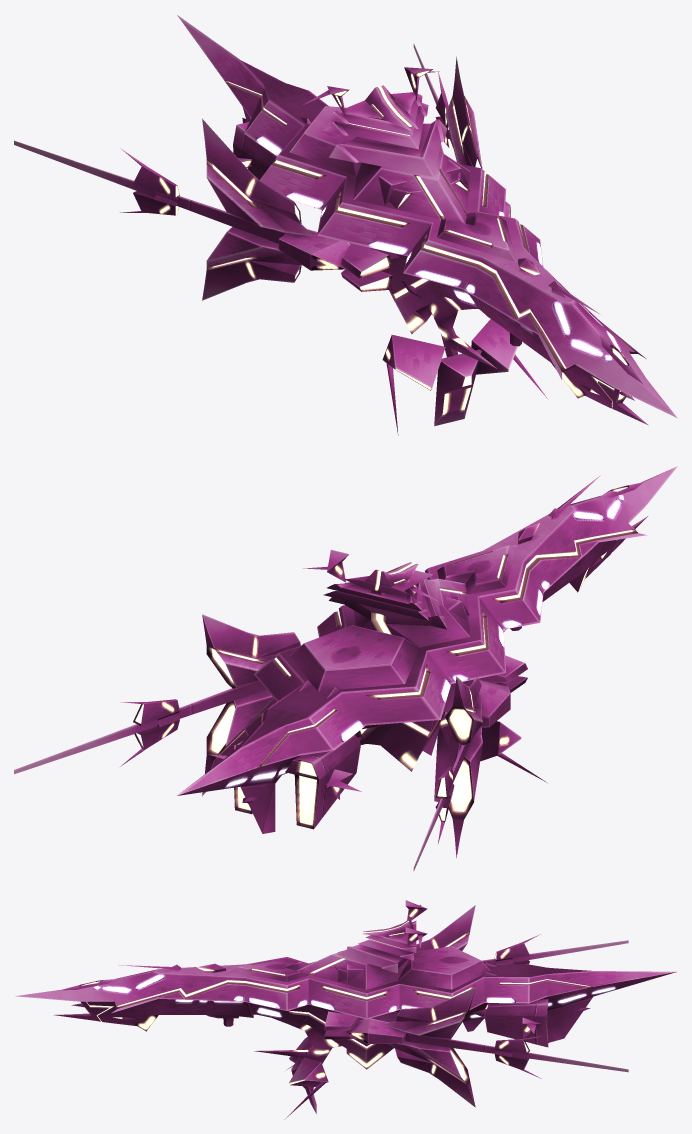
3 views of the same model, one above another, from view 1: azimuth 30°, elevation 25°; view 2: azimuth 150°, elevation 25°; view 3: azimuth 270°, elevation 25° (orthographic). The views are drawn at different scales.
Parts seen in each view (by area): view 1: body; view 2: body; view 3: body.
Boxes of the visible parts, left/top/right/bottom form: body: left=14, top=15, right=677, bottom=435; body: left=14, top=466, right=677, bottom=871; body: left=15, top=900, right=677, bottom=1119.
Size of the model in its own units: 185 by 129 by 401.
Materials: 1 (1 with a texture image).
